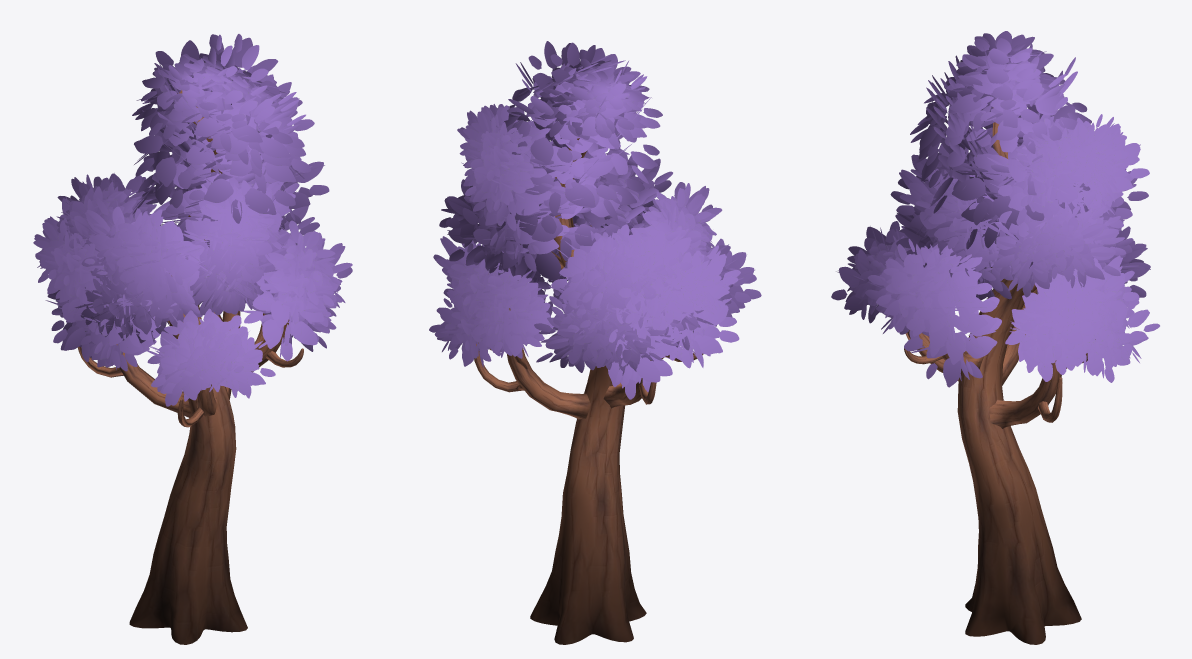
Rendered from CommonTree_2_jac.gltf.
3 renders of one model, left to right at view 1: azimuth 30°, elevation 25°; view 2: azimuth 150°, elevation 25°; view 3: azimuth 270°, elevation 25°, orthographic. The views are drawn at different scales.
Parts seen in each view (by area): view 1: CommonTree_2; view 2: CommonTree_2; view 3: CommonTree_2.
Part boxes in pixels (left/top/right/bottom): CommonTree_2: left=33, top=34, right=352, bottom=644; CommonTree_2: left=429, top=41, right=761, bottom=644; CommonTree_2: left=831, top=31, right=1159, bottom=644.
Size of the model in its own units: 4.46 by 7.64 by 4.28.
Materials: 2 (2 with a texture image).
